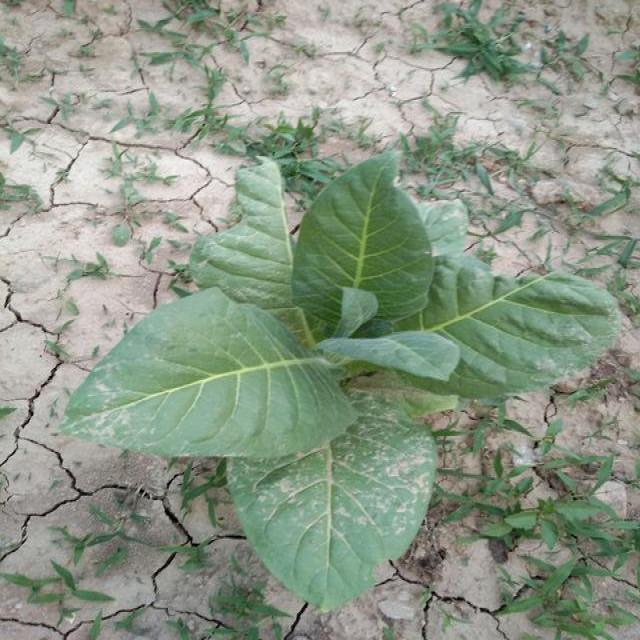crop: (63, 150, 624, 604)
